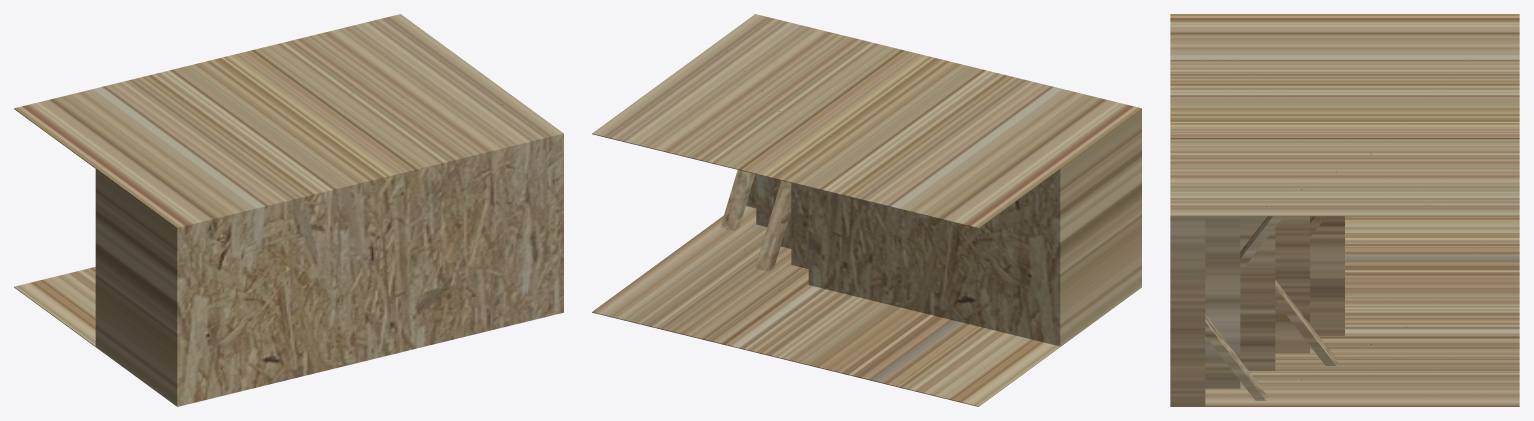
The model's file is Stairs_40deg_4deb.dae.
The picture shows the model from 3 angles, left to right: view 1: azimuth 30°, elevation 25°; view 2: azimuth 150°, elevation 25°; view 3: azimuth 270°, elevation 25°; orthographic projection. The views are drawn at different scales.
Parts seen in each view (by area): view 1: Stairs 40deg 4deb; view 2: Stairs 40deg 4deb; view 3: Stairs 40deg 4deb.
Part boxes in pixels (x1=…): Stairs 40deg 4deb: x1=14, y1=14, x2=563, y2=406; Stairs 40deg 4deb: x1=592, y1=14, x2=1141, y2=406; Stairs 40deg 4deb: x1=1170, y1=14, x2=1519, y2=406.
Size of the model in its own units: 273 by 200 by 121.
Materials: 1 (1 with a texture image).
